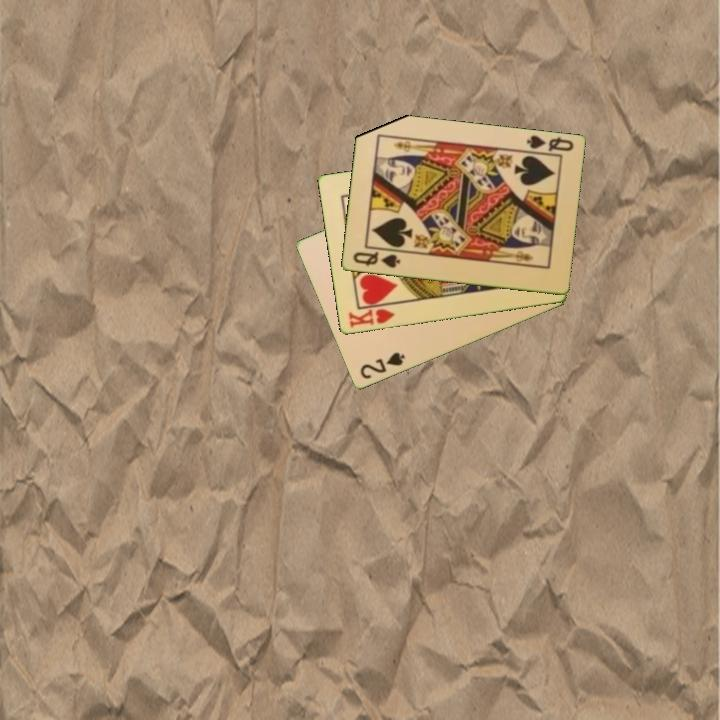2s: (356, 349, 408, 382)
Kh: (345, 301, 399, 331)
Qs: (349, 248, 403, 271), (523, 132, 576, 155)
